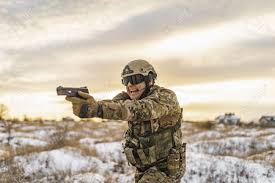gun: (56, 82, 92, 111)
